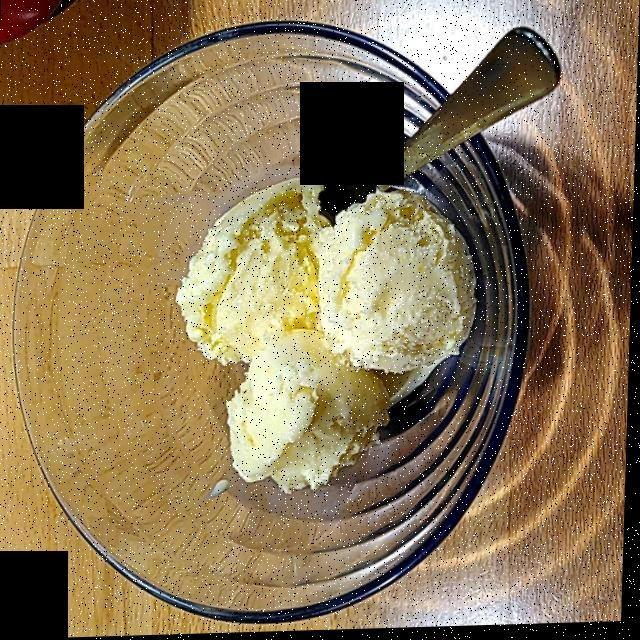ice-cream: (179, 181, 473, 492)
